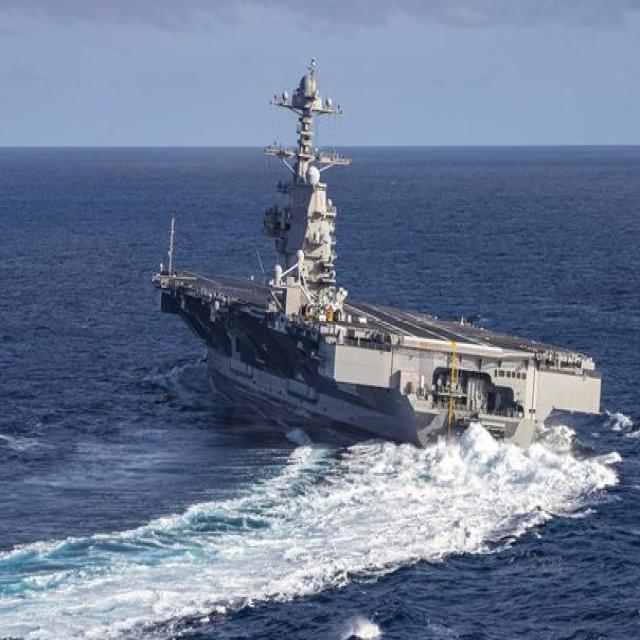navalvessels: (150, 45, 601, 476)
